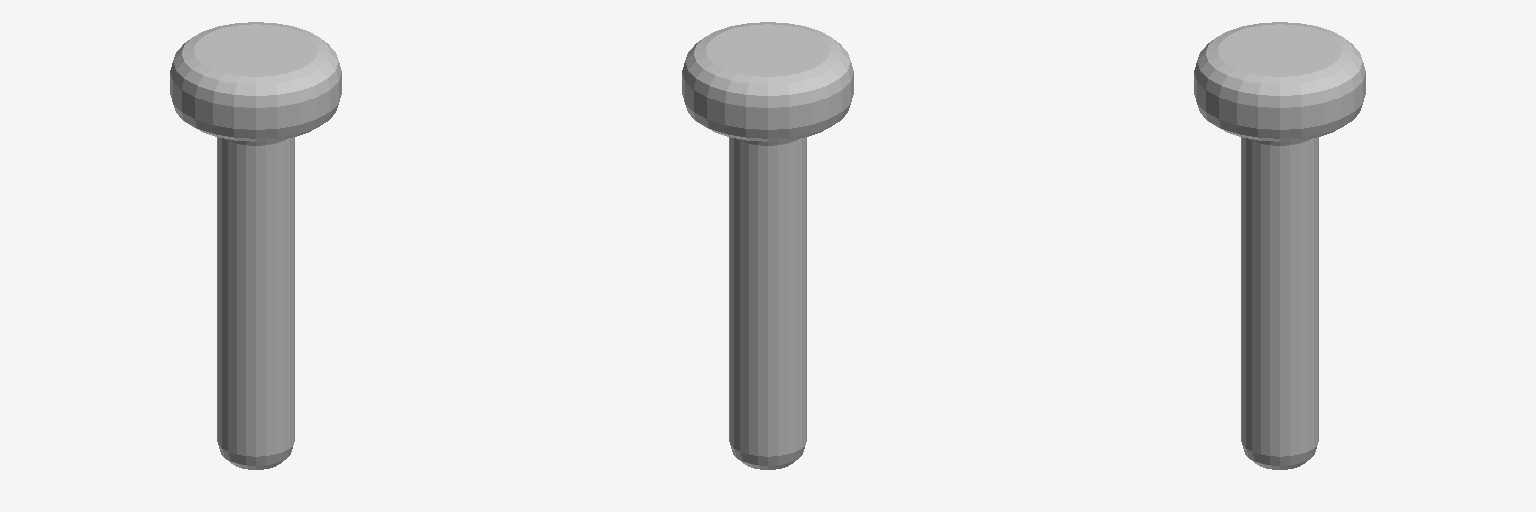
Rendered from Puller1.obj.
The picture shows the model from 3 angles: view 1: azimuth 30°, elevation 25°; view 2: azimuth 150°, elevation 25°; view 3: azimuth 270°, elevation 25°; orthographic projection.
Parts seen in each view (by area): view 1: Puller_Cylinder.002; view 2: Puller_Cylinder.002; view 3: Puller_Cylinder.002.
Part boxes in pixels (x1,y1,x2,y2): Puller_Cylinder.002: (170,22,341,469); Puller_Cylinder.002: (682,22,853,469); Puller_Cylinder.002: (1194,22,1365,469).
Bounding box in the file's own units: 0.4412 × 1.16 × 0.4412.